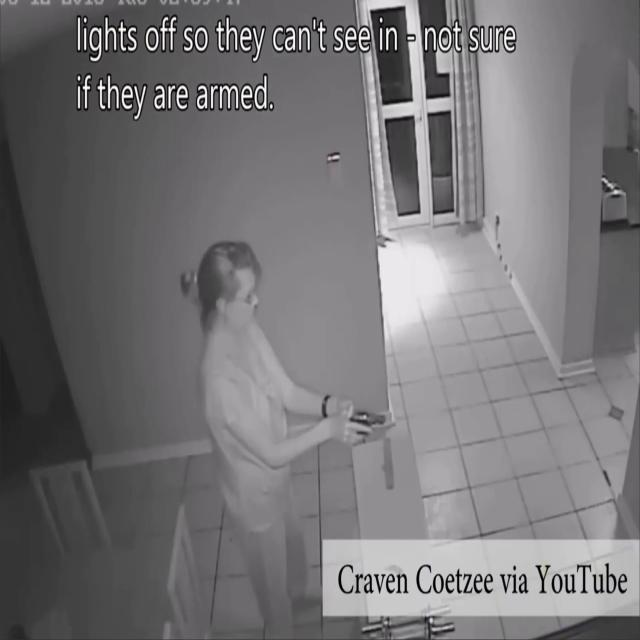Gun: (322, 386, 410, 454)
